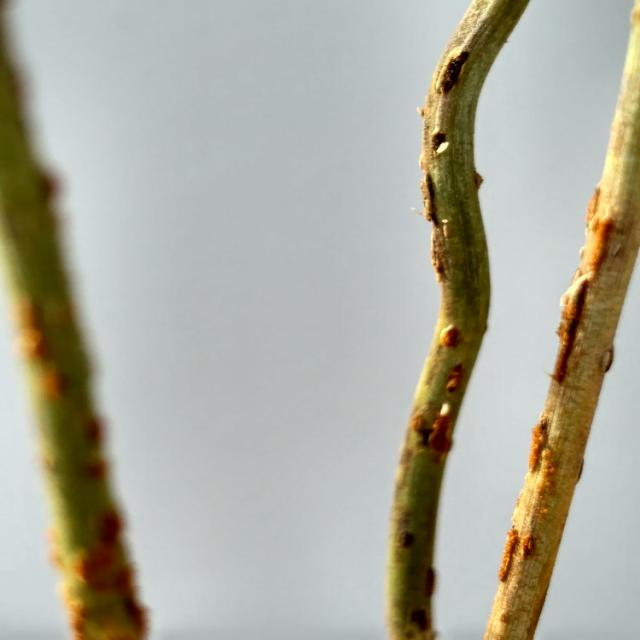wheat-stemrust: (552, 186, 612, 384), (412, 403, 455, 457), (528, 419, 558, 494), (499, 527, 537, 583), (443, 360, 467, 395), (439, 325, 462, 348)
